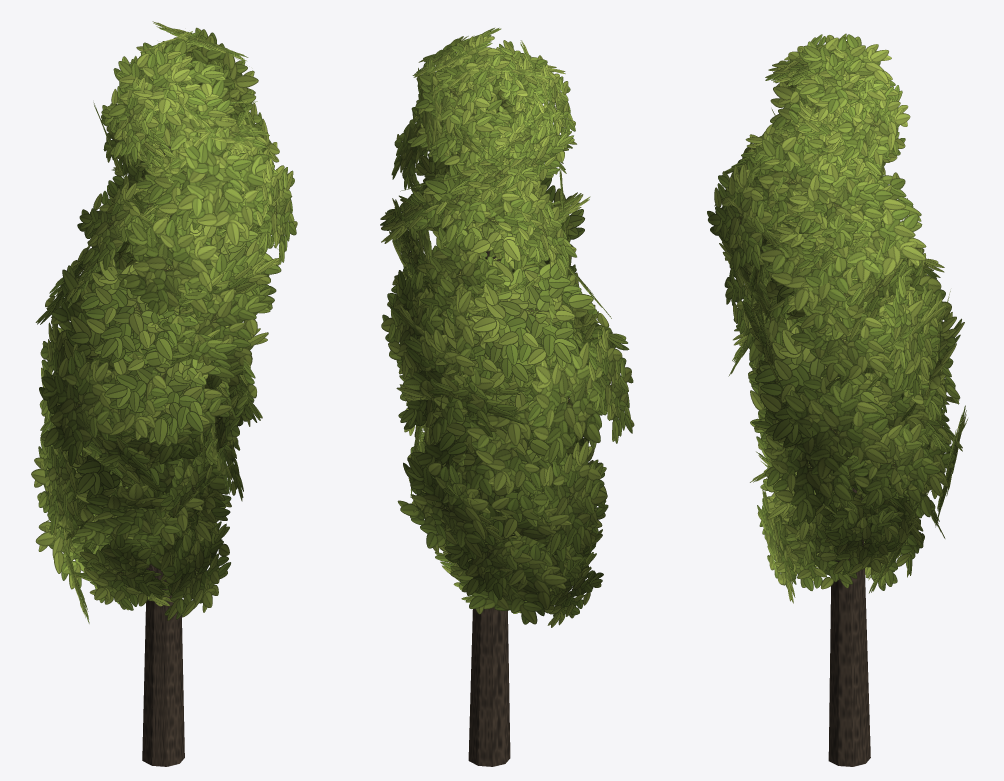
The model's file is pioppo_1.glb.
3 views of the same model, side by side, from view 1: azimuth 30°, elevation 25°; view 2: azimuth 150°, elevation 25°; view 3: azimuth 270°, elevation 25° (orthographic).
Parts seen in each view (by area): view 1: pioppo_1; view 2: pioppo_1; view 3: pioppo_1.
Part boxes in pixels (left/top/right/bottom): pioppo_1: left=31, top=21, right=297, bottom=766; pioppo_1: left=380, top=28, right=634, bottom=766; pioppo_1: left=707, top=33, right=967, bottom=766.
Bounding box in the file's own units: 6.28 × 16.76 × 6.23.
2 materials, 2 textured.
